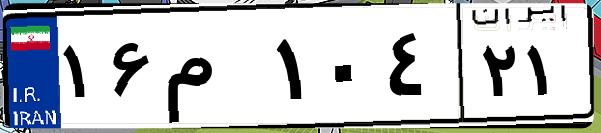0: (330, 28, 385, 110)
1: (270, 28, 330, 110), (57, 26, 110, 100), (525, 38, 570, 115)
2: (475, 38, 525, 113)
4: (385, 28, 445, 110)
6: (110, 28, 158, 98)
م: (158, 20, 270, 120)
